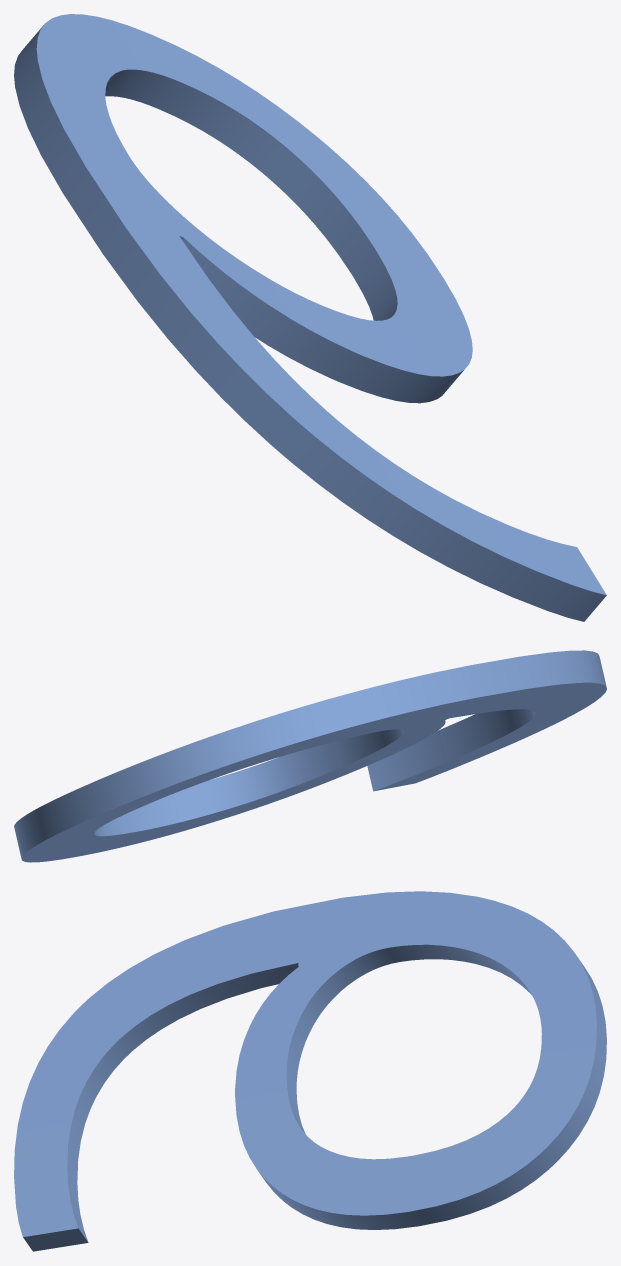
The model's file is New_Number_9.gltf.
3 renders of one model, top to bottom at view 1: azimuth 30°, elevation 25°; view 2: azimuth 150°, elevation 25°; view 3: azimuth 270°, elevation 25°, orthographic. The views are drawn at different scales.
Visible parts, largest first — view 1: Part 621; view 2: Part 621; view 3: Part 621.
Part boxes in pixels (x1,y1,x2,y2): Part 621: [14, 14, 606, 621]; Part 621: [14, 650, 606, 862]; Part 621: [14, 891, 606, 1251].
Size of the model in its own units: 0.00333 by 0.00284 by 0.00556.
